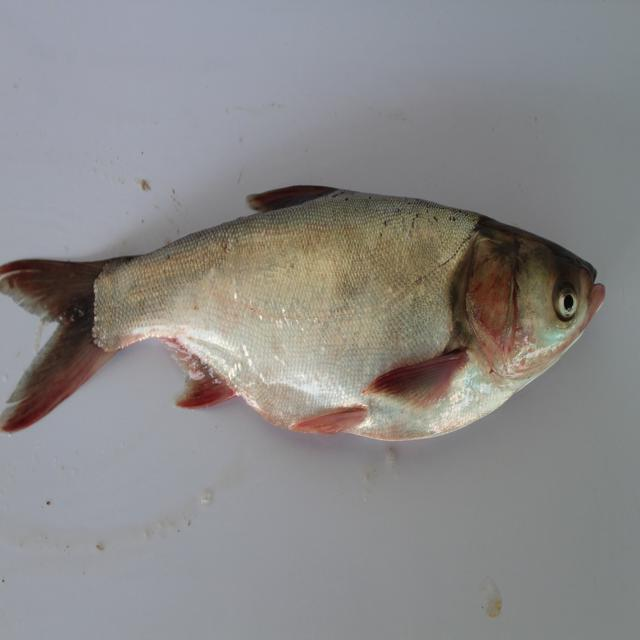SilverCarp: (21, 185, 593, 492)
